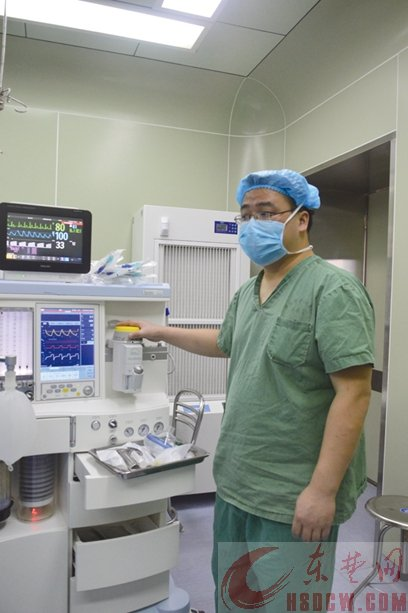face_mask: (237, 185, 293, 265)
